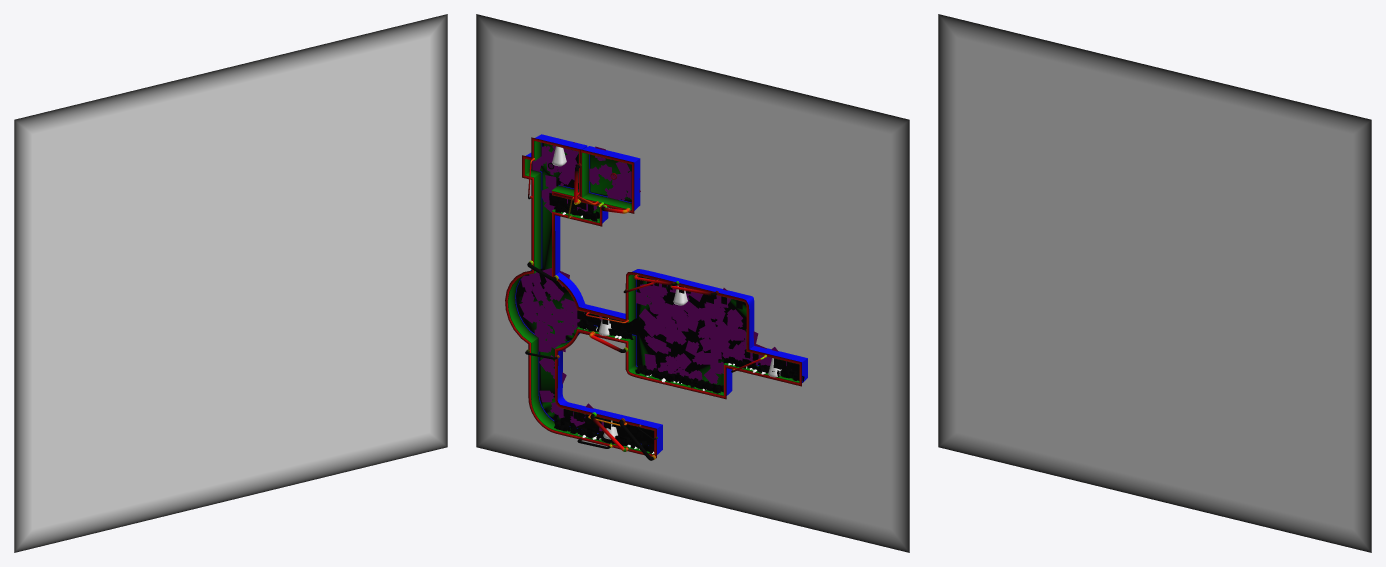
The model's file is lvlmodel_switcher.fbx.
The picture shows the model from 3 angles, left to right: view 1: azimuth 30°, elevation 25°; view 2: azimuth 150°, elevation 25°; view 3: azimuth 330°, elevation 25°; orthographic projection.
Visible parts, largest first — view 1: model_geometry; view 2: model_geometry; view 3: model_geometry.
Part boxes in pixels (bbox=[...]): model_geometry: bbox=[14, 14, 447, 552]; model_geometry: bbox=[476, 14, 909, 552]; model_geometry: bbox=[938, 14, 1371, 552].
Size of what is drawn, in the model's own units: 10162 by 9704 by 1763.
